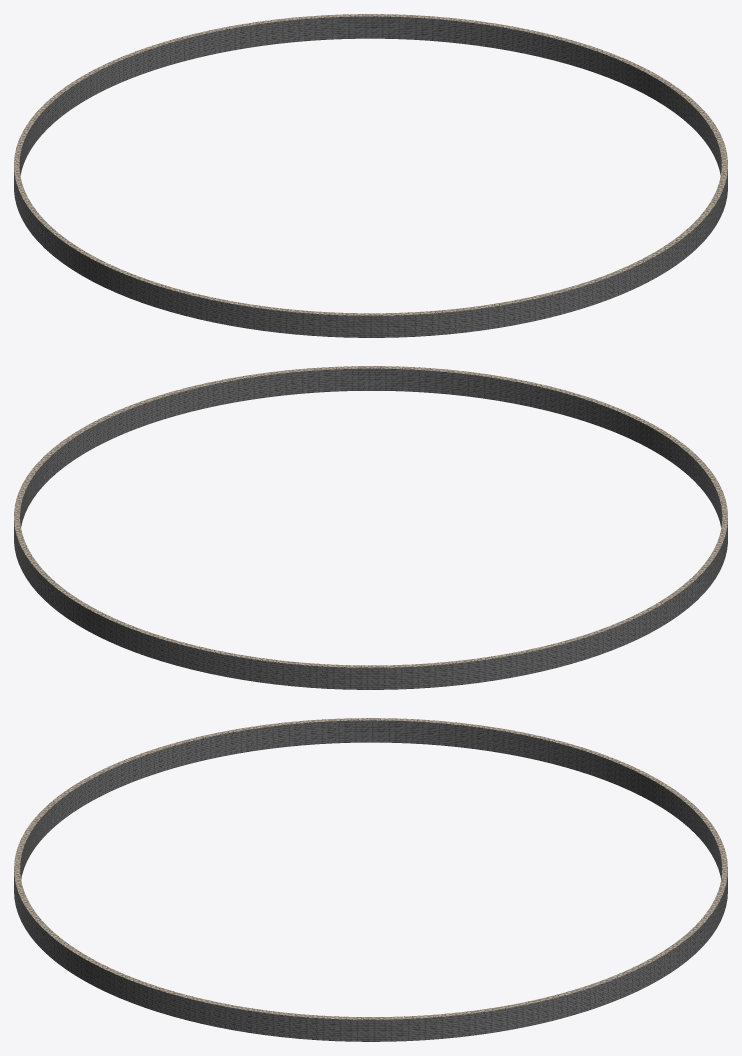
Rendered from ring.FBX.
3 views of the same model, one above another, from view 1: azimuth 30°, elevation 25°; view 2: azimuth 150°, elevation 25°; view 3: azimuth 270°, elevation 25° (orthographic).
Parts seen in each view (by area): view 1: Buitenmuur; view 2: Buitenmuur; view 3: Buitenmuur.
Boxes of the visible parts, box(x1,y1,x2,y2) form: Buitenmuur: box(14, 14, 727, 337); Buitenmuur: box(14, 366, 727, 689); Buitenmuur: box(14, 718, 727, 1041).
Size of the model in its own units: 410 by 14 by 410.
2 materials, 2 textured.
